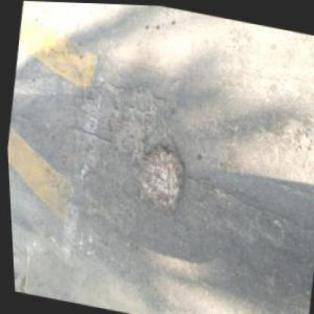Hueco: (126, 135, 191, 216), (101, 106, 149, 157)
